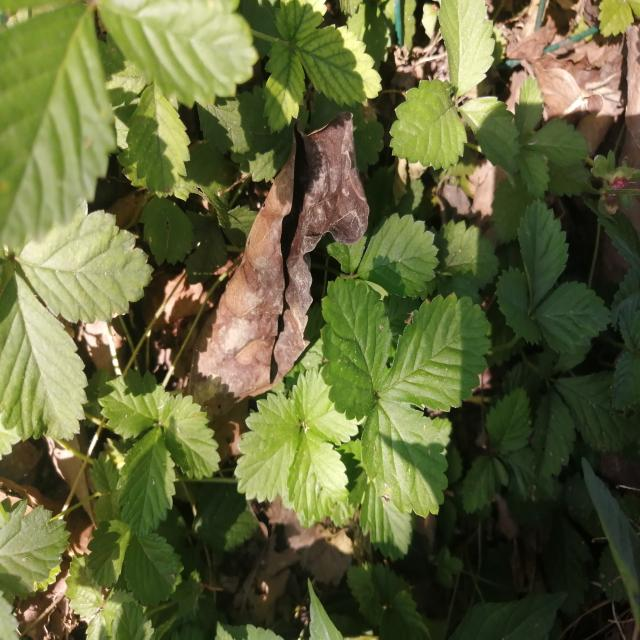Mock_strawberry: (239, 271, 503, 529), (102, 360, 228, 534)
